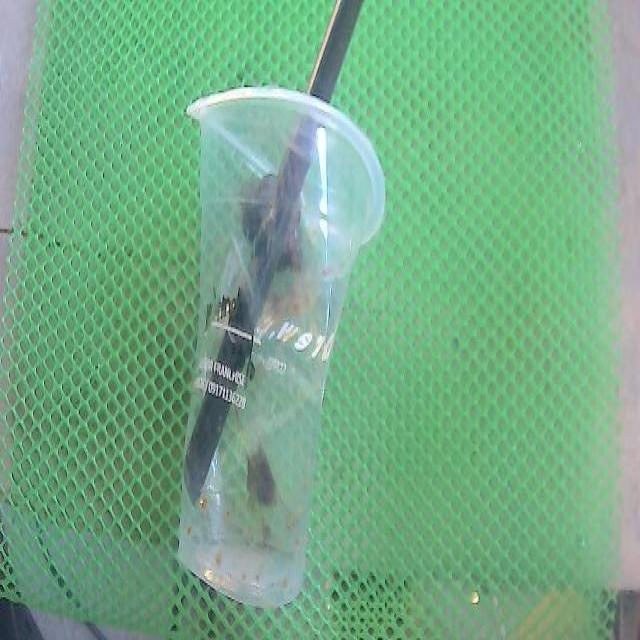cup: (179, 87, 384, 607)
